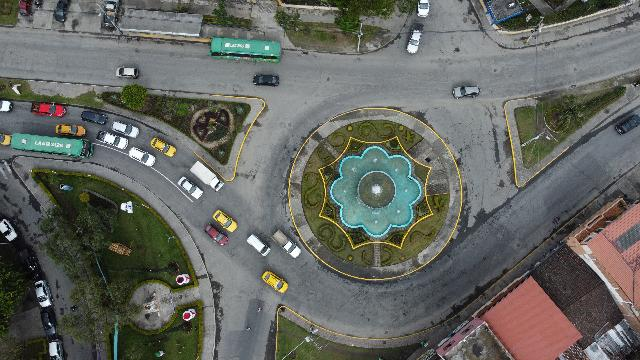Vehiculo: (190, 160, 224, 192), (272, 230, 302, 258), (16, 249, 40, 279), (96, 130, 128, 150), (178, 176, 202, 200), (406, 22, 424, 54), (262, 271, 288, 293), (30, 103, 66, 118), (616, 114, 640, 136), (204, 223, 228, 245), (247, 234, 271, 256), (213, 210, 237, 232), (128, 148, 156, 166), (34, 280, 52, 308), (41, 308, 58, 336), (150, 138, 176, 156), (112, 121, 138, 138), (1, 220, 18, 243), (81, 110, 107, 124), (56, 125, 86, 137), (452, 86, 480, 98), (48, 340, 64, 360), (253, 74, 279, 86), (116, 67, 138, 79), (418, 1, 430, 18), (0, 100, 14, 112), (0, 133, 12, 145)
